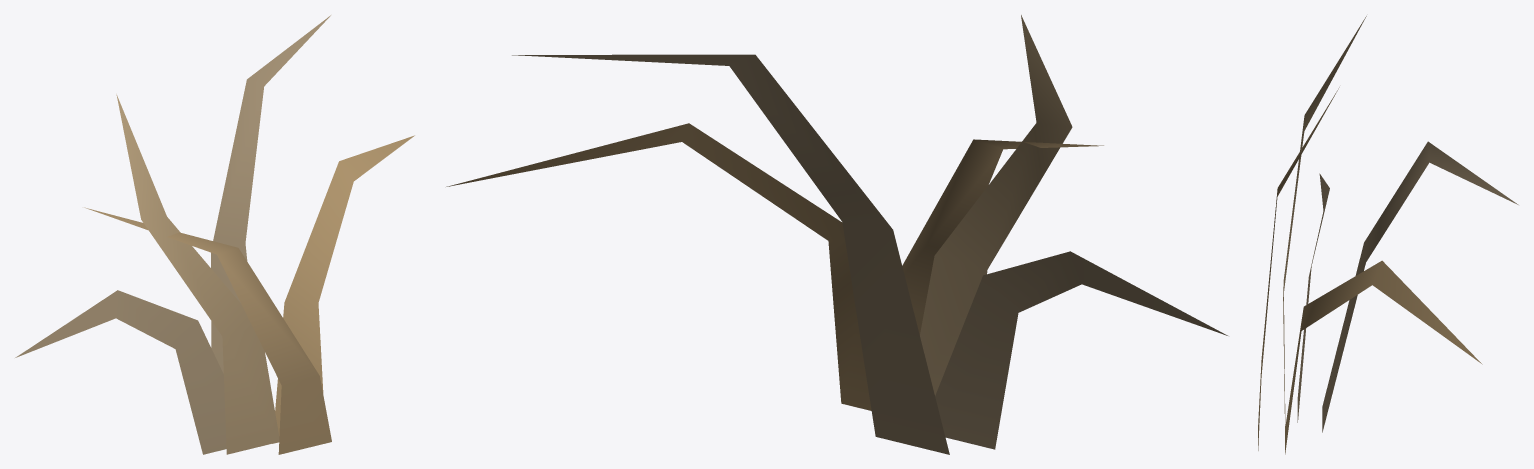
File: Grass_e_TwoS_04.fbx
The picture shows the model from 3 angles, left to right: view 1: azimuth 30°, elevation 25°; view 2: azimuth 150°, elevation 25°; view 3: azimuth 270°, elevation 25°; orthographic projection. The views are drawn at different scales.
Visible parts, largest first — view 1: Grass_e_TwoS_04; view 2: Grass_e_TwoS_04; view 3: Grass_e_TwoS_04.
Part boxes in pixels (bbox=[...]): Grass_e_TwoS_04: bbox=[15, 15, 414, 454]; Grass_e_TwoS_04: bbox=[446, 15, 1227, 454]; Grass_e_TwoS_04: bbox=[1258, 16, 1518, 454].
Size of the model in its own units: 67.52 by 46.81 by 31.1.
